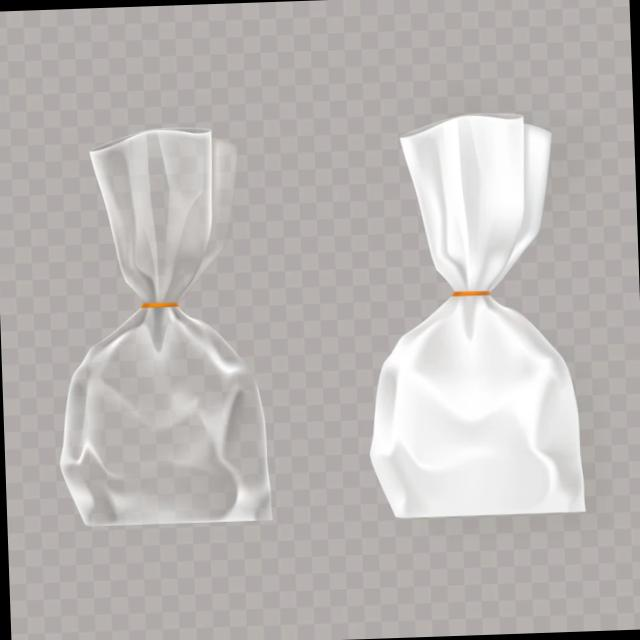plastic_bag: (357, 90, 598, 551), (53, 122, 282, 535)
